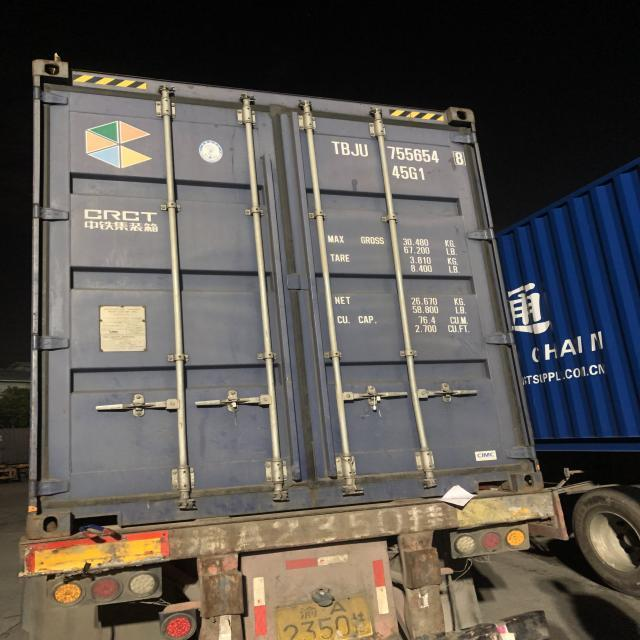ISO: (392, 162, 428, 182)
container_number: (332, 140, 465, 164)
